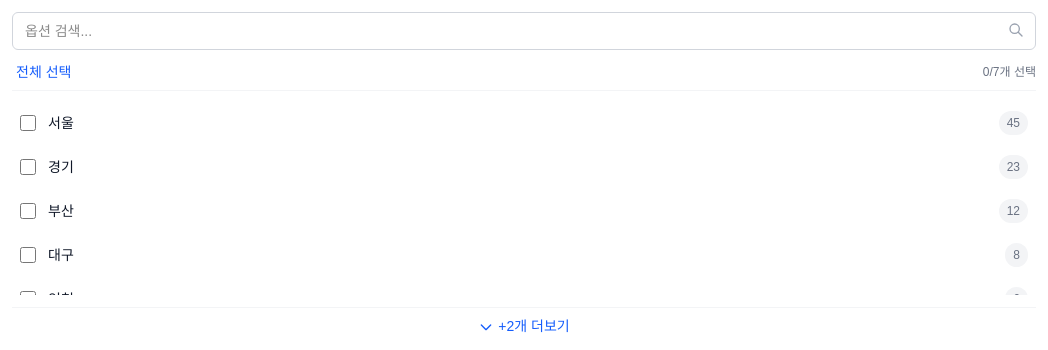
it: CheckboxFilter › should filter options based on search term
Step 1. Type "서울" into the field with placeholder "옵션 검색..." → [524, 31], box [12,12,1036,50]
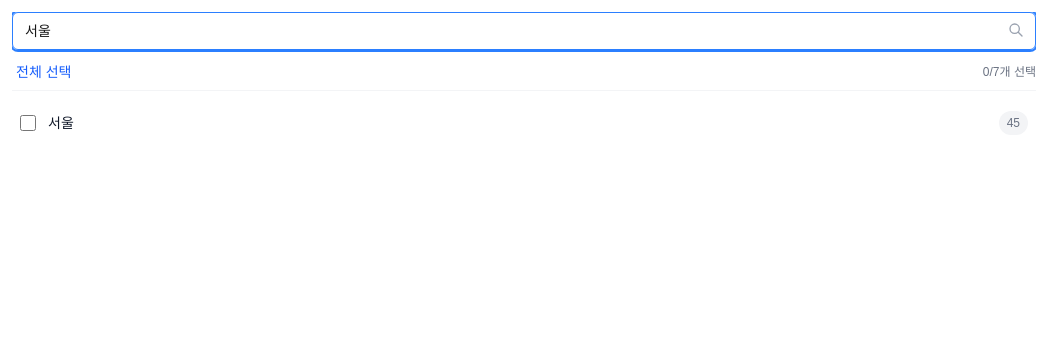
Expected: the text "서울" is shown, [48,115,74,131]
Now the text "경기" is gone
Now the text "부산" is gone
